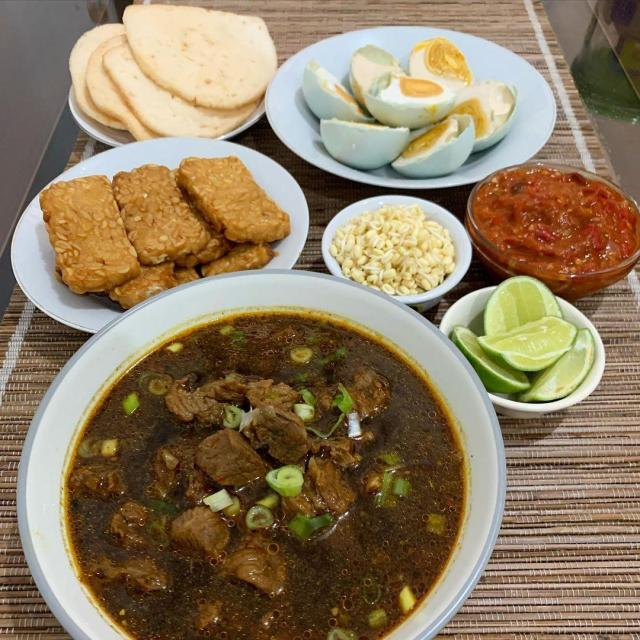Rawon: (51, 330, 461, 632)
